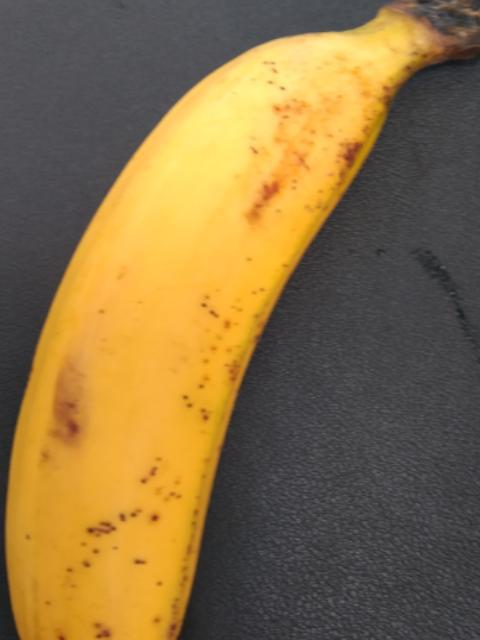ripe: (0, 33, 408, 639)
